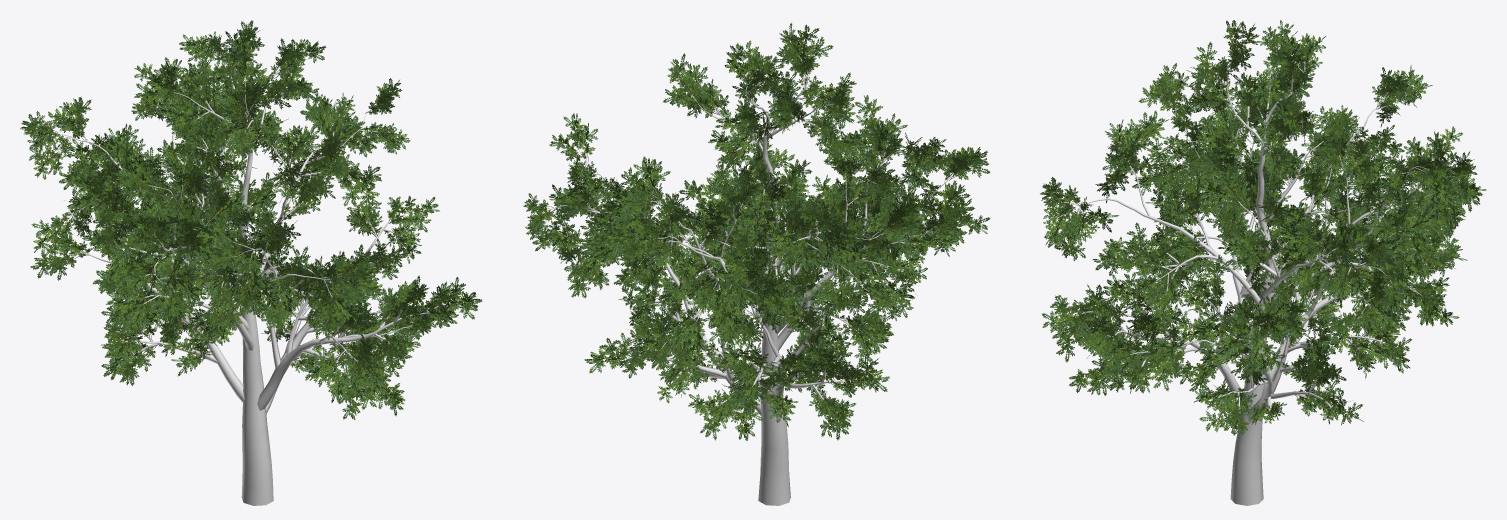
The model's file is OakLarge.fbx.
3 renders of one model, left to right at view 1: azimuth 30°, elevation 25°; view 2: azimuth 150°, elevation 25°; view 3: azimuth 270°, elevation 25°, orthographic. The views are drawn at different scales.
Visible parts, largest first — view 1: Tree; view 2: Tree; view 3: Tree.
Boxes of the visible parts, x1=… form: Tree: x1=20, y1=20, x2=482, y2=505; Tree: x1=523, y1=22, x2=990, y2=505; Tree: x1=1040, y1=20, x2=1486, y2=505.
Size of the model in its own units: 3.96 by 4.26 by 4.8.
